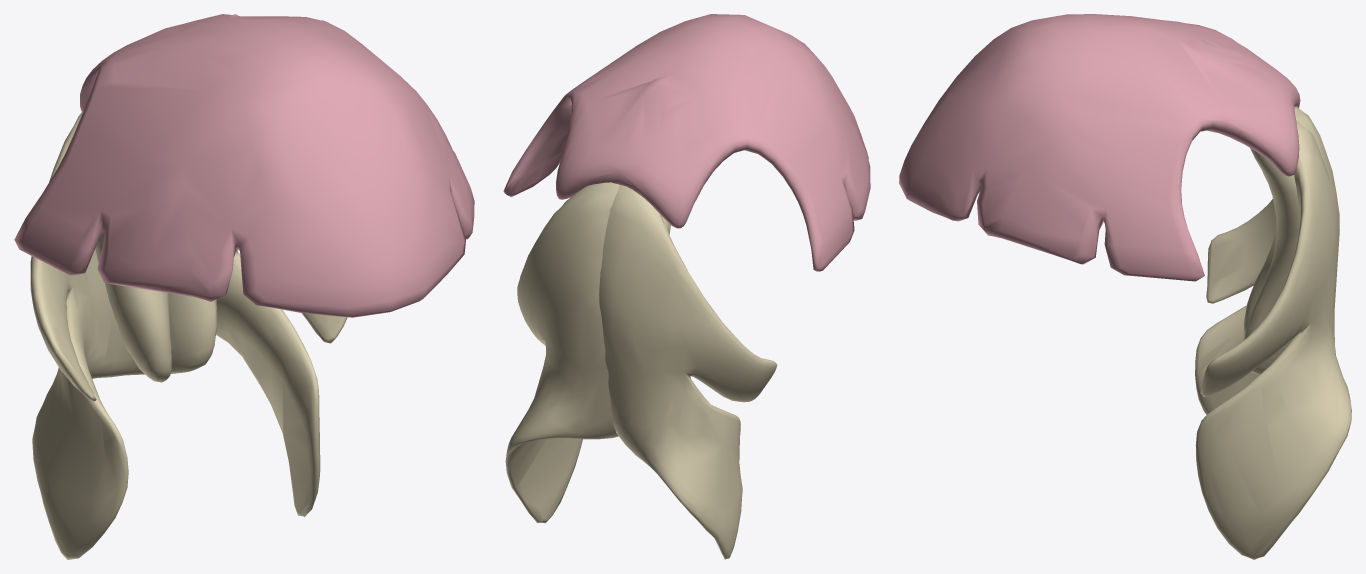
File: Mane_17.fbx
The picture shows the model from 3 angles, left to right: view 1: azimuth 30°, elevation 25°; view 2: azimuth 150°, elevation 25°; view 3: azimuth 270°, elevation 25°; orthographic projection. The views are drawn at different scales.
Parts seen in each view (by area): view 1: Mane_17; view 2: Mane_17; view 3: Mane_17.
Boxes of the visible parts, x1,y1,x2,y2 form: Mane_17: [14, 14, 474, 559]; Mane_17: [503, 14, 870, 559]; Mane_17: [899, 14, 1351, 559].
Bounding box in the file's own units: 163 × 226 × 190.
